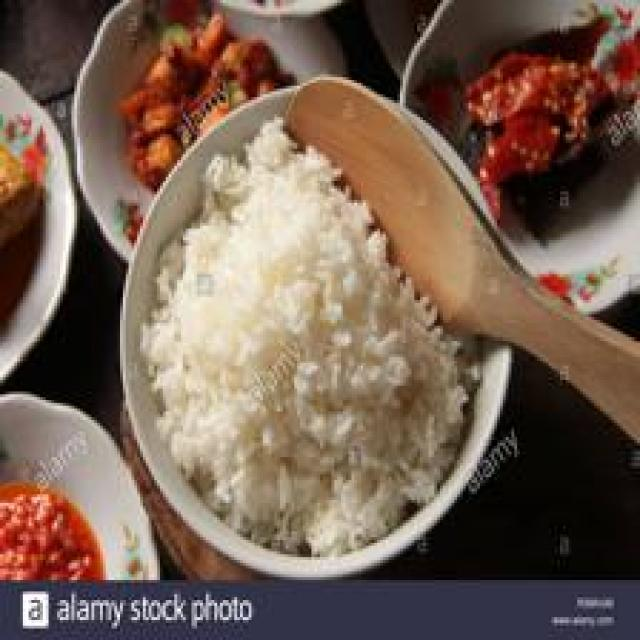Wet Waste: (124, 116, 480, 557)
